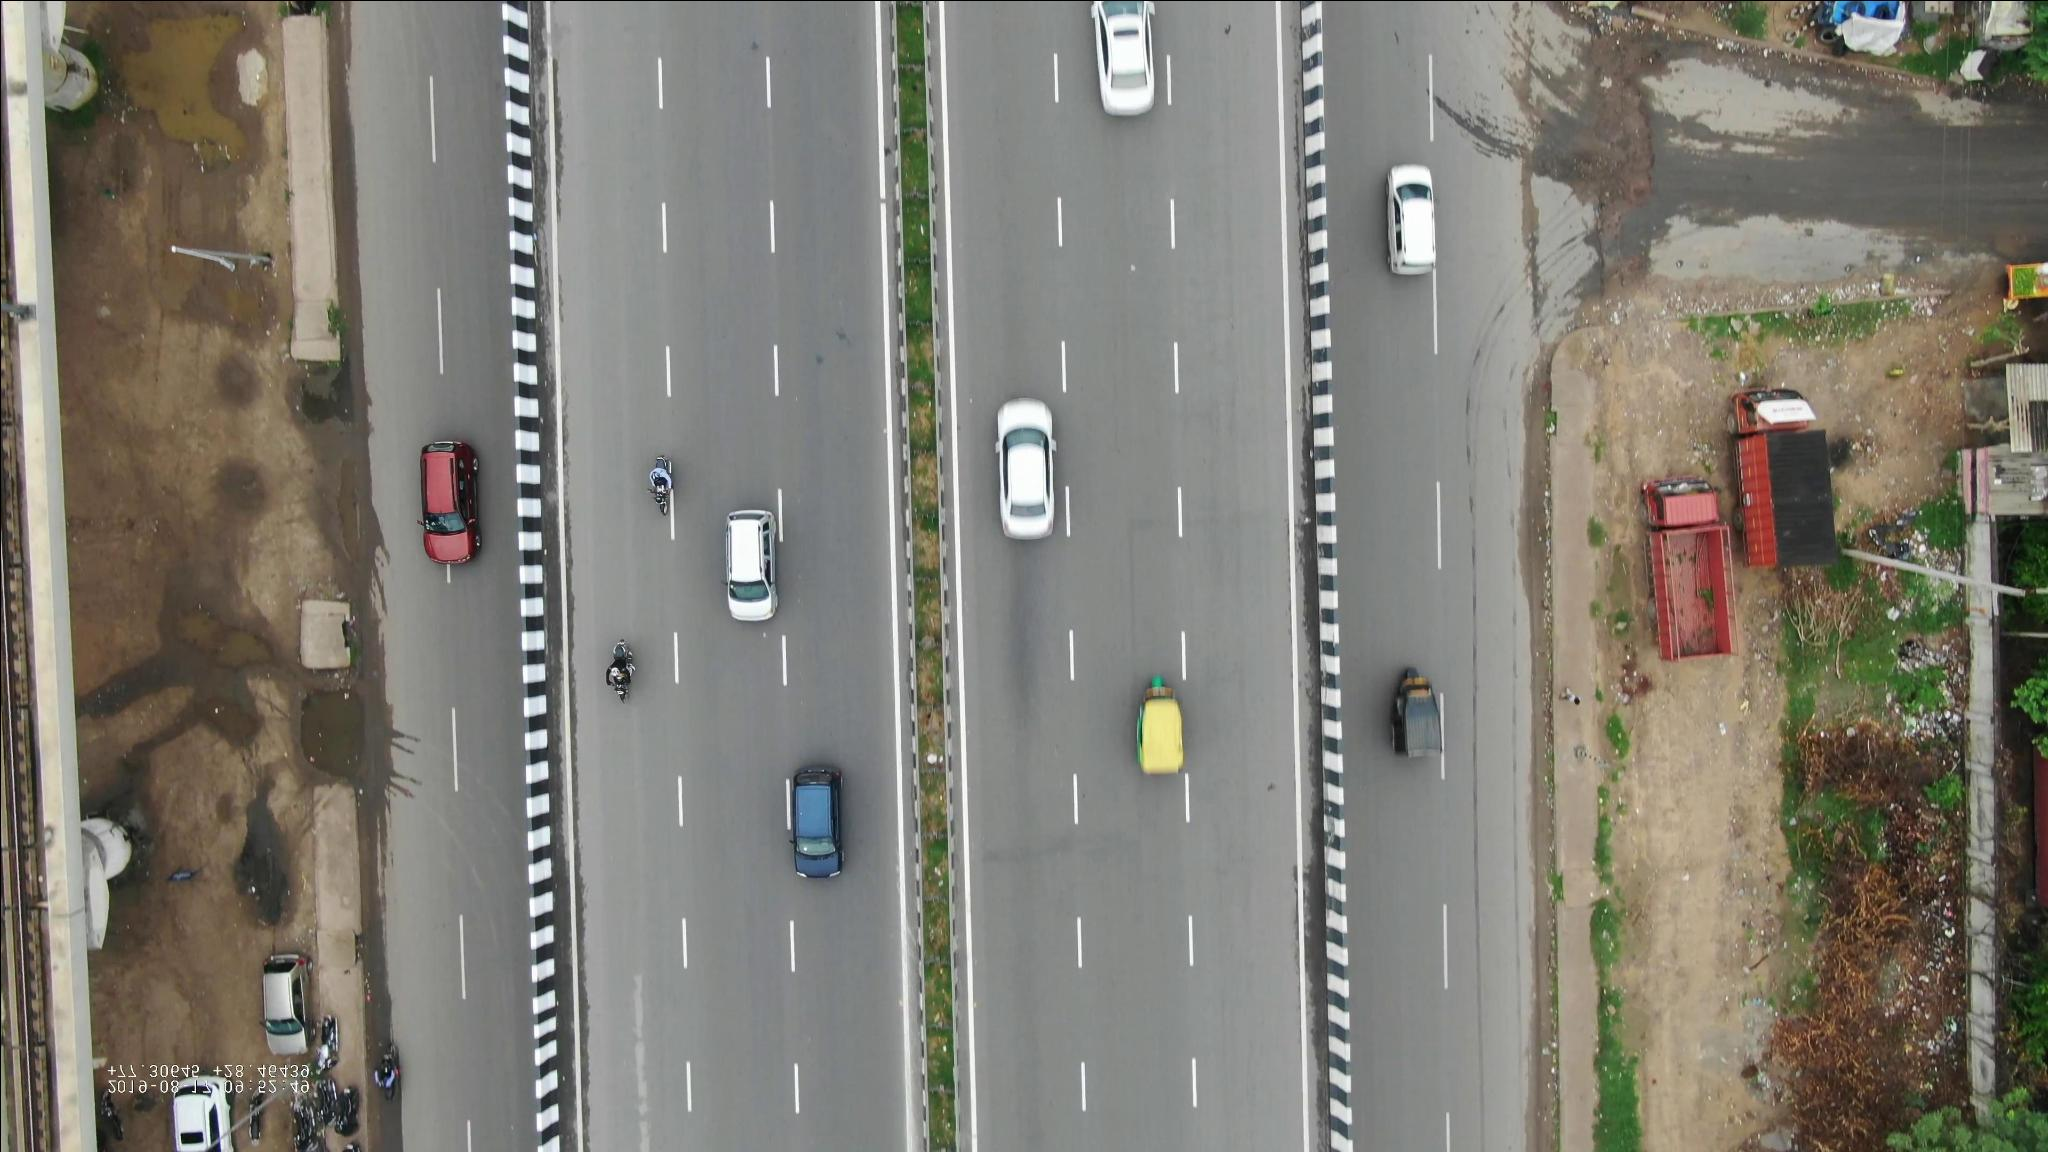Waterlogging: (293, 679, 411, 795)
